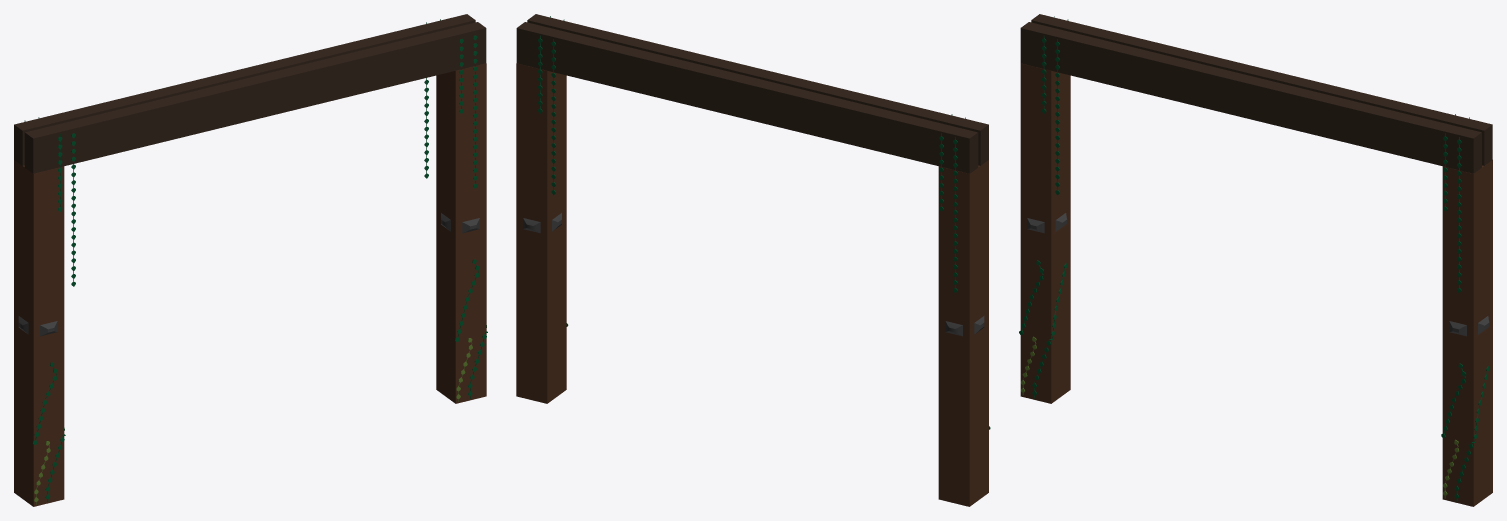
3 renders of one model, left to right at view 1: azimuth 30°, elevation 25°; view 2: azimuth 150°, elevation 25°; view 3: azimuth 330°, elevation 25°, orthographic.
Parts seen in each view (by area): view 1: Colonna+inserti.006; view 2: Colonna+inserti.006; view 3: Colonna+inserti.006.
Boxes of the visible parts, x1,y1,x2,y2 form: Colonna+inserti.006: (14, 14, 487, 506); Colonna+inserti.006: (516, 14, 990, 506); Colonna+inserti.006: (1019, 14, 1492, 506).
Bounding box in the file's own units: 1338 × 1024 × 119.
